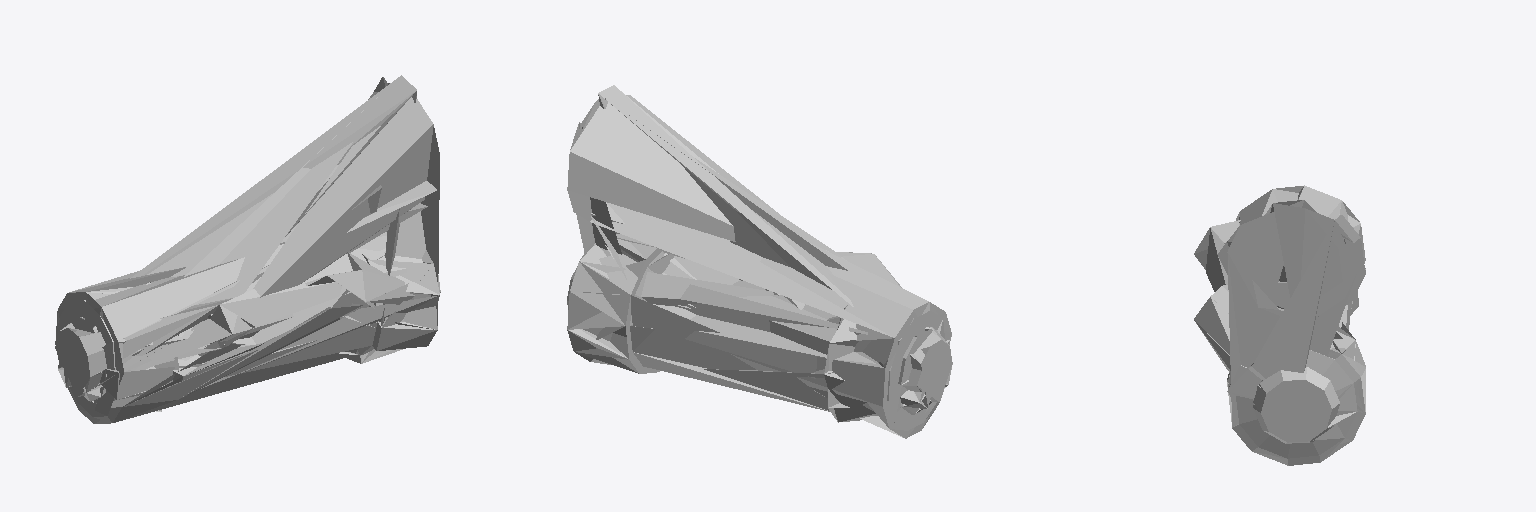
Rendered from Juggernaut attack tank.obj.
3 views of the same model, side by side, from view 1: azimuth 30°, elevation 25°; view 2: azimuth 150°, elevation 25°; view 3: azimuth 270°, elevation 25° (orthographic).
Visible parts, largest first — view 1: attacktank_rbl_rig_RebelTankHull_0, attacktank_rbl_rig_RebelTankHull1_0, attacktank_rbl_rig_TireR01_0; view 2: attacktank_rbl_rig_RebelTankHull_0, attacktank_rbl_rig_RebelTankHull1_0, attacktank_rbl_rig_TireR01_0, attacktank_rbl_rig_CannonLeft_0, attacktank_rbl_rig_TireL01_0; view 3: attacktank_rbl_rig_RebelTankHull_0, attacktank_rbl_rig_RebelTankHull1_0, attacktank_rbl_rig_TireR01_0, attacktank_rbl_rig_TireR02_0, attacktank_rbl_rig_TireL01_0, attacktank_rbl_rig_CannonLeft_0.
Boxes of the visible parts, x1,y1,x2,y2 form: attacktank_rbl_rig_RebelTankHull_0: [55, 75, 439, 422]; attacktank_rbl_rig_RebelTankHull1_0: [55, 232, 440, 423]; attacktank_rbl_rig_TireR01_0: [349, 259, 439, 363]; attacktank_rbl_rig_RebelTankHull_0: [567, 85, 952, 430]; attacktank_rbl_rig_RebelTankHull1_0: [580, 234, 952, 438]; attacktank_rbl_rig_TireR01_0: [567, 239, 664, 373]; attacktank_rbl_rig_CannonLeft_0: [594, 238, 661, 373]; attacktank_rbl_rig_TireL01_0: [568, 240, 656, 372]; attacktank_rbl_rig_RebelTankHull_0: [1194, 185, 1365, 465]; attacktank_rbl_rig_RebelTankHull1_0: [1194, 186, 1365, 440]; attacktank_rbl_rig_TireR01_0: [1227, 340, 1365, 465]; attacktank_rbl_rig_TireR02_0: [1253, 367, 1339, 443]; attacktank_rbl_rig_TireL01_0: [1228, 341, 1364, 465]; attacktank_rbl_rig_CannonLeft_0: [1227, 331, 1363, 423].
Size of the model in its own units: 5.24 by 3.81 by 2.24.